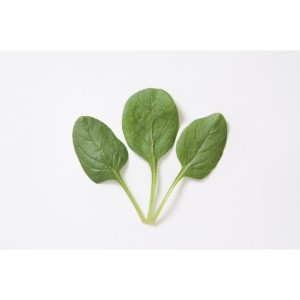spinach_brain food: (97, 94, 207, 185)
